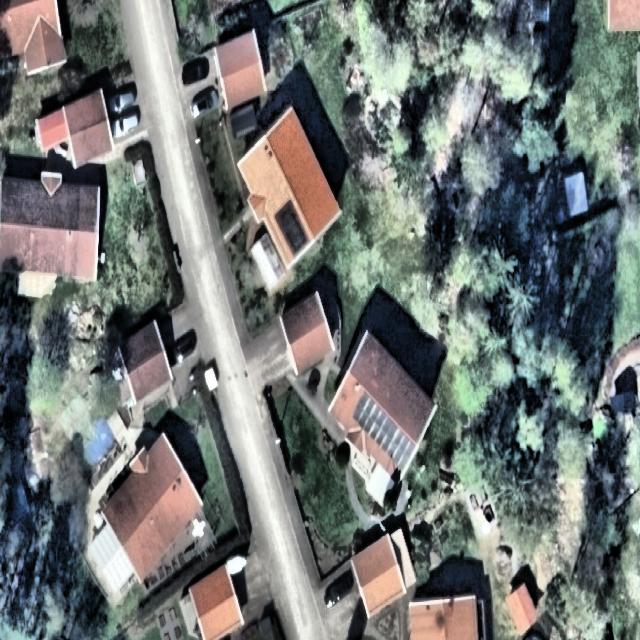roof_pv: (374, 411, 416, 467), (273, 197, 311, 258), (354, 391, 387, 438)
